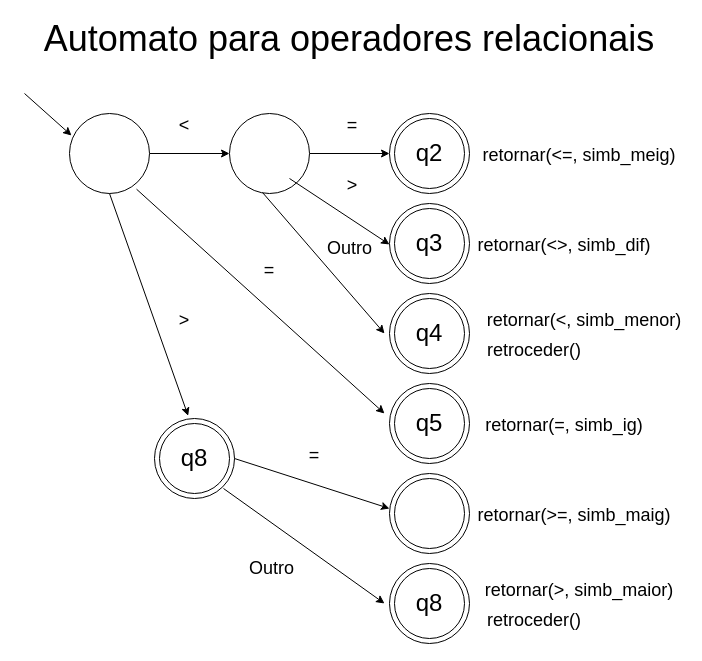
Image size: 702x661. Some labels were removed from this diagram. The box of each missing label's shape, as (x1, y1, x2, y2) in pixels:
q0: (68, 112, 150, 194)
q1: (228, 112, 310, 194)
q7: (394, 478, 464, 548)
